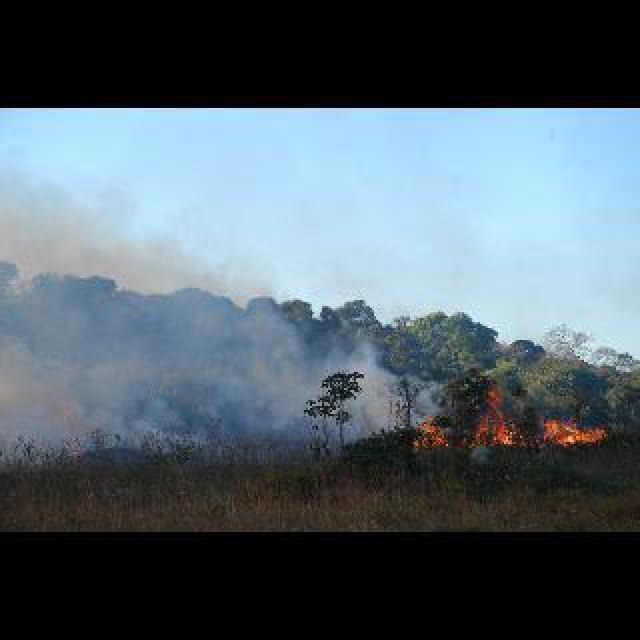Fire: (466, 390, 526, 444), (538, 414, 606, 444), (408, 416, 448, 452)
Smoke: (4, 238, 446, 422)
